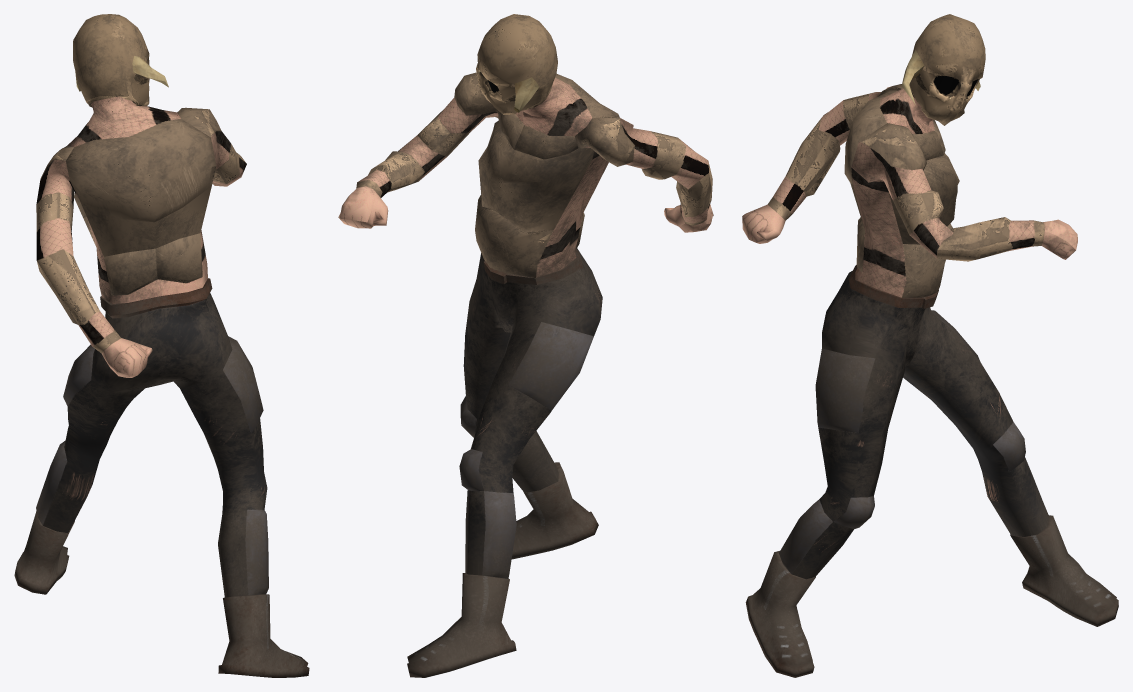
File: Anim_ataque_f3_npc1.0032.obj
3 renders of one model, left to right at view 1: azimuth 30°, elevation 25°; view 2: azimuth 150°, elevation 25°; view 3: azimuth 270°, elevation 25°, orthographic. The views are drawn at different scales.
Visible parts, largest first — view 1: NPC2; view 2: NPC2; view 3: NPC2.
Boxes of the visible parts, x1,y1,x2,y2 form: NPC2: (14, 14, 309, 677); NPC2: (338, 14, 713, 677); NPC2: (742, 14, 1118, 677).
Size of the model in its own units: 4.04 by 9.17 by 5.16.
